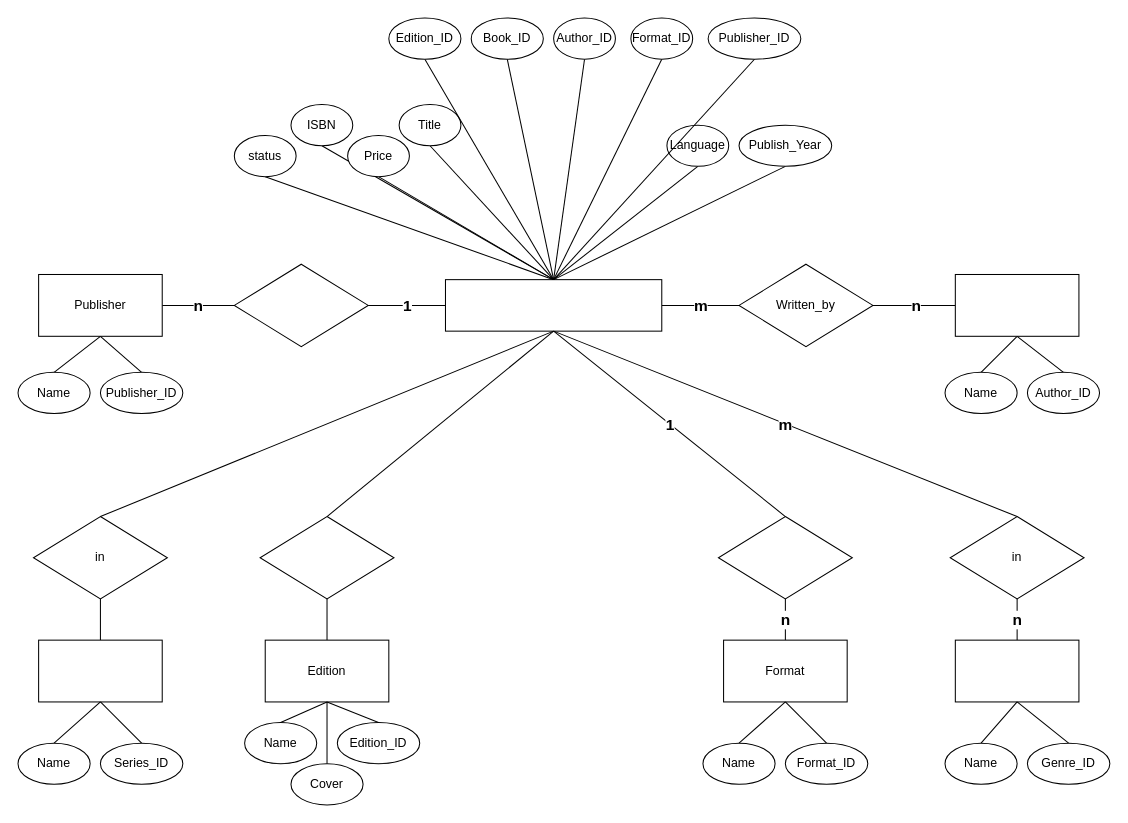
This 1128x823 diagram has some shape labels left out. Each missing label, with the centre of its shape:
"Author" belongs at point 1016,304.
"Book" belongs at point 553,305.
"Genre" belongs at point 1016,670.
"has" belongs at point 784,557.
"is" belongs at point 326,557.
"Published_by" belongs at point 300,305.
"Series" belongs at point 100,670.
